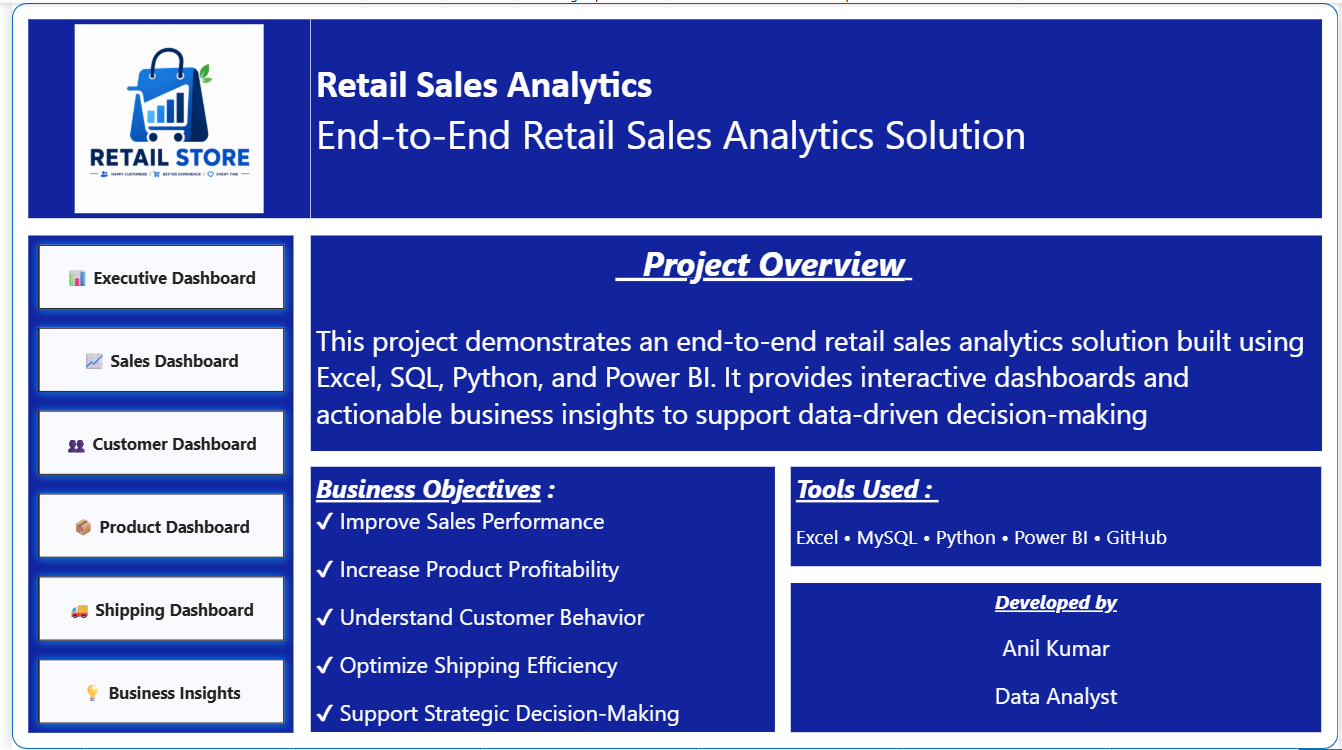

This screenshot's page, from the dashboard's own definition file:
{"tool":"powerbi","page":{"name":"🏠 Home","canvas":[1280,720],"ordinal":0},"visuals":[{"type":"shape","box":[0,0,1280,720],"z":0},{"type":"image","box":[16,16,272,192],"z":1000},{"type":"textbox","box":[288,16,976,192],"z":2000},{"type":"textbox","box":[288,224,976,208],"z":3000},{"type":"pageNavigator","box":[16,224,256,480],"z":4000},{"type":"textbox","box":[288,448,448,256],"z":5000},{"type":"textbox","box":[752,448,512,96],"z":6000},{"type":"textbox","box":[752,560,512,144],"z":7000}]}

Visuals, with their boxes in screenshot pixels (x1, y1, x2, y2), scaled from the page's 1280x720 canvas onto the 1342x750 screenshot:
shape: 0,0,1341,749
image: 17,17,302,217
textbox: 302,17,1325,217
textbox: 302,233,1325,450
pageNavigator: 17,233,285,733
textbox: 302,467,772,733
textbox: 788,467,1325,567
textbox: 788,583,1325,733
